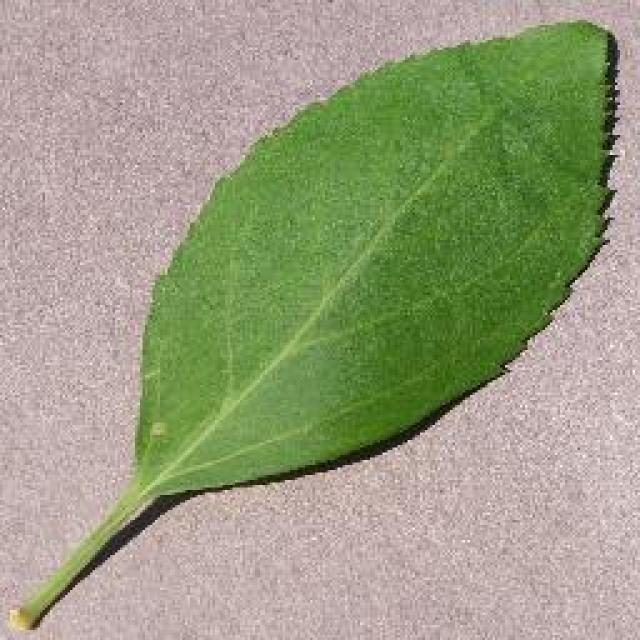Cherry___healthy: (171, 22, 588, 484)
